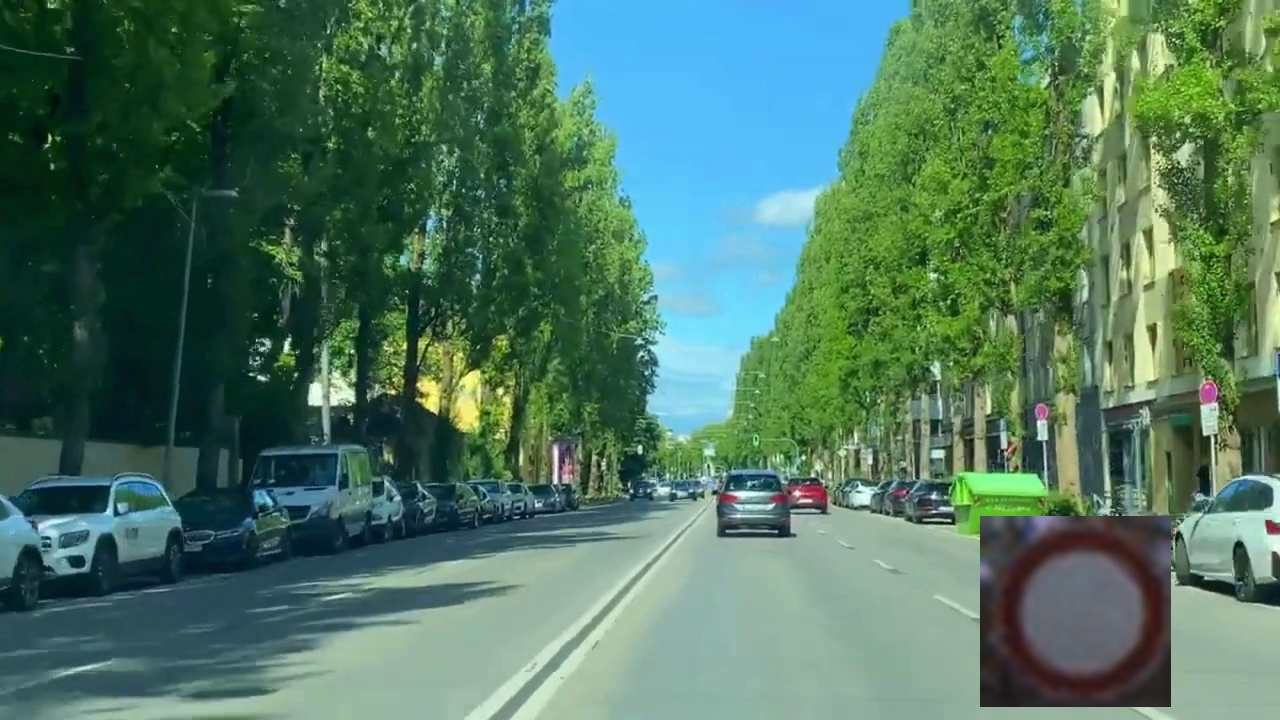No vehicles: (980, 516, 1171, 707)
